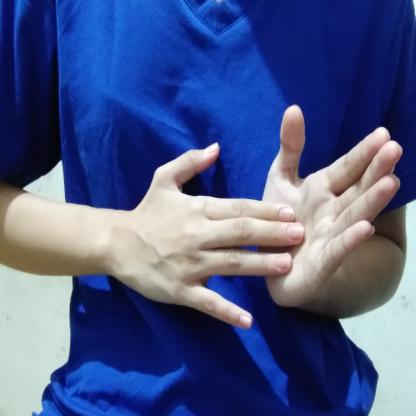mother: (103, 97, 400, 341)
